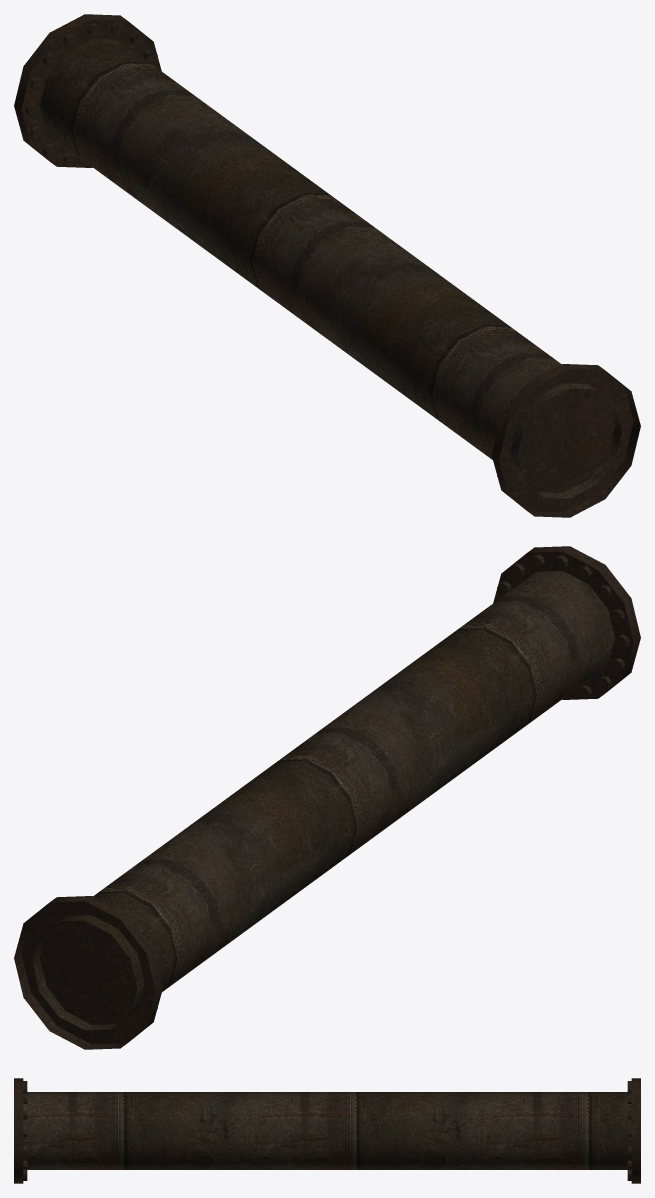
The model's file is pipe_bx_1.glb.
3 renders of one model, top to bottom at view 1: azimuth 30°, elevation 25°; view 2: azimuth 150°, elevation 25°; view 3: azimuth 270°, elevation 25°, orthographic. The views are drawn at different scales.
Parts seen in each view (by area): view 1: pipe_bx_1; view 2: pipe_bx_1; view 3: pipe_bx_1.
Part boxes in pixels (left/top/right/bottom): pipe_bx_1: left=14, top=14, right=640, bottom=517; pipe_bx_1: left=14, top=546, right=640, bottom=1049; pipe_bx_1: left=14, top=1078, right=640, bottom=1183.
Size of the model in its own units: 0.676 by 0.676 by 4.
2 materials, 2 textured.
